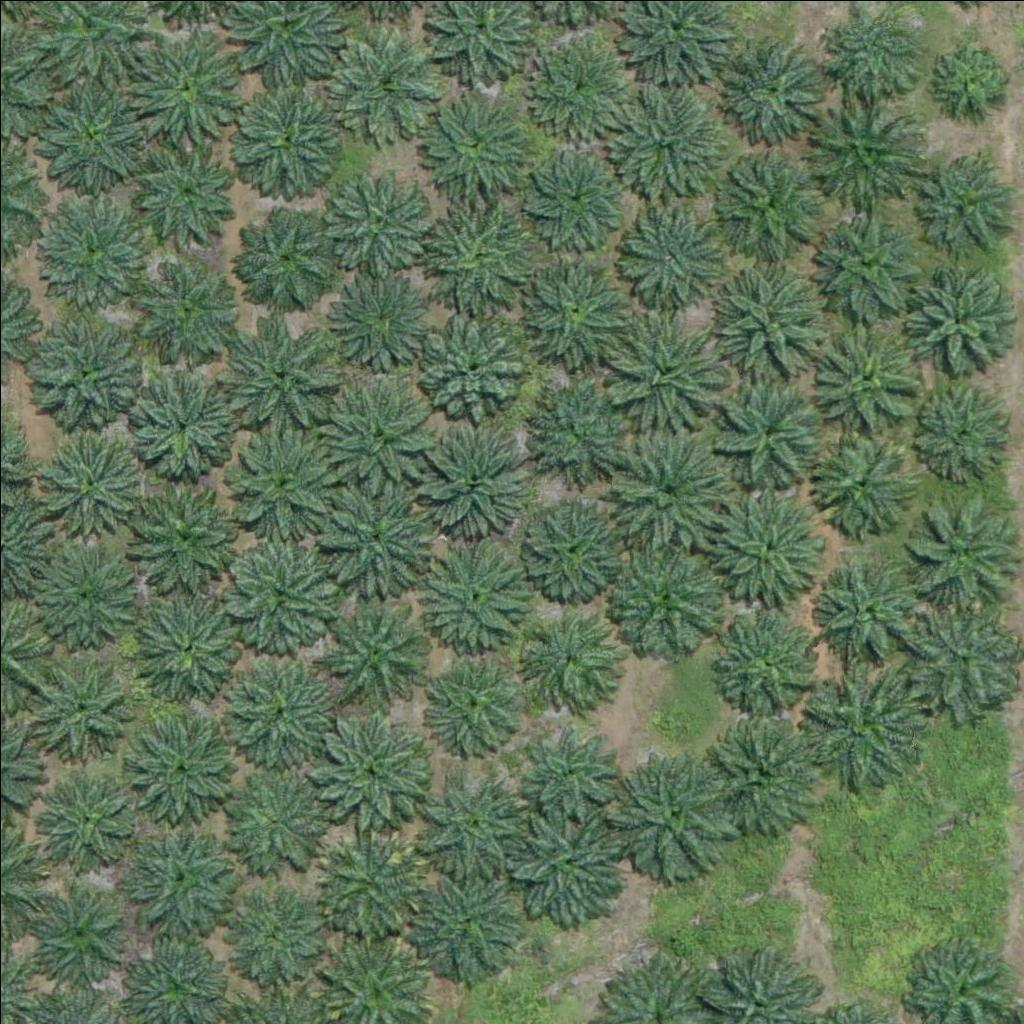Kelapa_Sawit: (506, 798, 631, 924), (612, 745, 737, 871), (795, 660, 920, 786), (605, 427, 730, 553), (603, 537, 728, 663), (417, 186, 542, 312), (407, 76, 532, 202), (708, 259, 833, 385), (601, 311, 726, 437), (705, 718, 818, 832), (605, 86, 718, 200), (131, 31, 244, 145), (33, 424, 146, 537), (129, 713, 242, 826), (311, 717, 424, 830), (314, 590, 427, 703), (320, 477, 433, 590), (421, 543, 534, 656), (321, 369, 434, 482), (227, 426, 340, 539), (715, 492, 828, 605), (716, 375, 829, 488), (122, 132, 235, 245), (229, 86, 342, 199), (223, 311, 336, 424), (327, 266, 440, 379), (719, 31, 832, 144), (527, 31, 640, 144), (421, 420, 533, 534), (27, 316, 139, 430), (714, 142, 826, 256), (806, 86, 918, 200), (810, 202, 922, 316), (807, 319, 919, 433), (328, 30, 440, 144), (134, 592, 246, 705), (127, 474, 239, 587), (221, 765, 333, 878), (220, 655, 332, 768), (222, 539, 334, 652), (124, 361, 236, 474), (907, 600, 1019, 713), (898, 494, 1010, 607), (132, 244, 244, 357), (36, 183, 148, 296), (32, 81, 144, 194), (319, 157, 431, 270), (413, 308, 525, 421), (518, 254, 630, 367), (30, 880, 130, 981), (37, 769, 137, 870), (33, 662, 133, 763), (35, 545, 135, 646), (129, 827, 229, 928), (226, 884, 326, 985), (320, 834, 420, 935), (410, 872, 510, 973), (422, 774, 522, 875), (426, 653, 526, 754), (520, 721, 620, 822), (817, 562, 917, 663), (811, 434, 911, 535), (234, 206, 334, 307), (527, 138, 627, 239), (615, 198, 715, 299), (522, 607, 622, 707), (524, 498, 624, 598), (539, 375, 639, 475), (718, 614, 818, 714), (906, 269, 1006, 369), (918, 143, 1018, 243), (929, 32, 1016, 120), (914, 385, 1001, 473), (829, 5, 916, 93)
